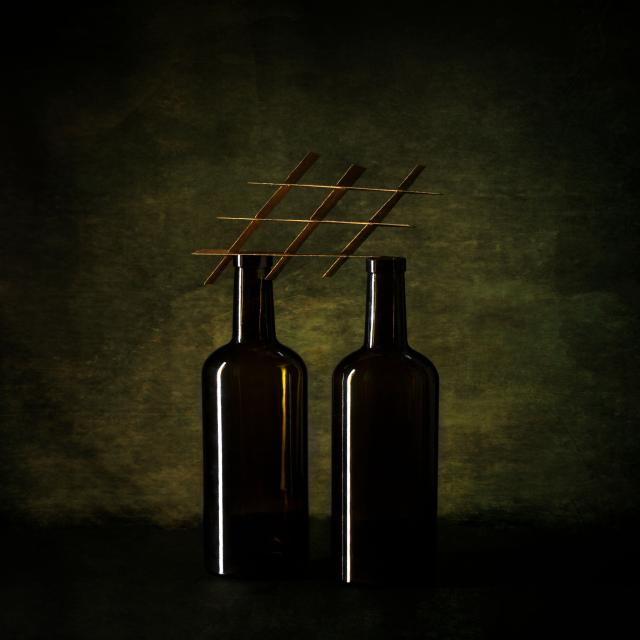Bottle: (333, 258, 438, 583), (203, 256, 308, 576)
